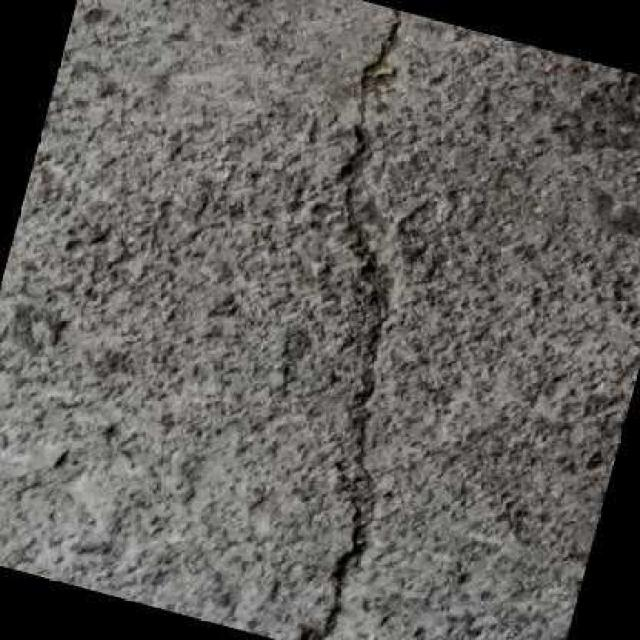D00: (300, 7, 407, 640)
